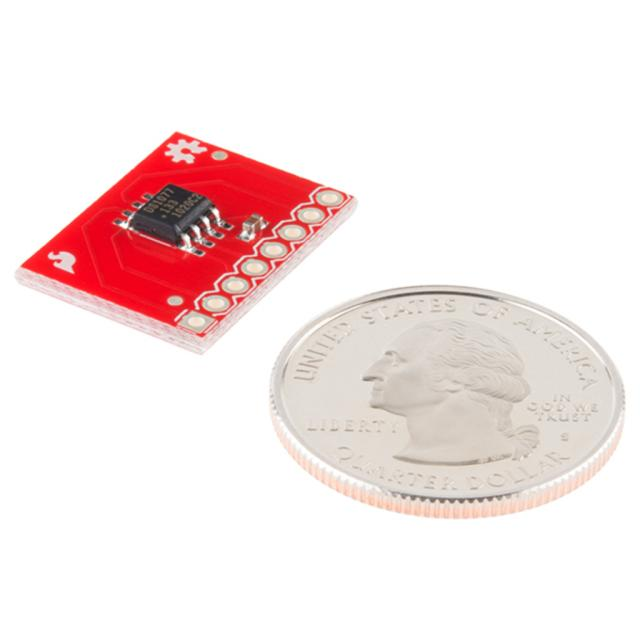Coin: (261, 279, 626, 515)
